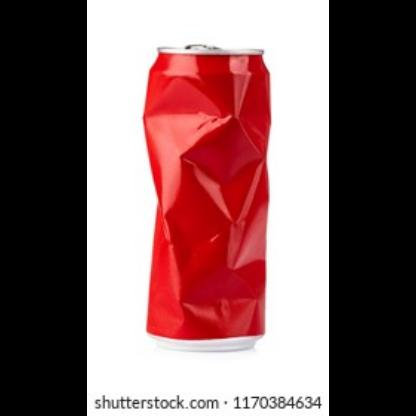Dent_Can: (160, 134, 249, 326), (145, 70, 234, 176), (212, 155, 265, 293), (189, 263, 266, 343), (232, 74, 270, 151)
Tin_Can: (131, 36, 280, 356)
